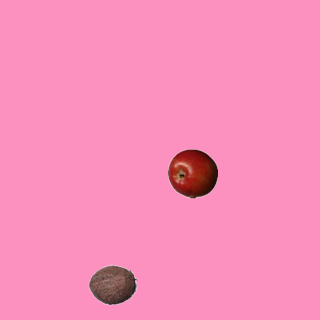Apple Braeburn: (167, 148, 217, 198)
Cocos: (87, 259, 137, 309)
